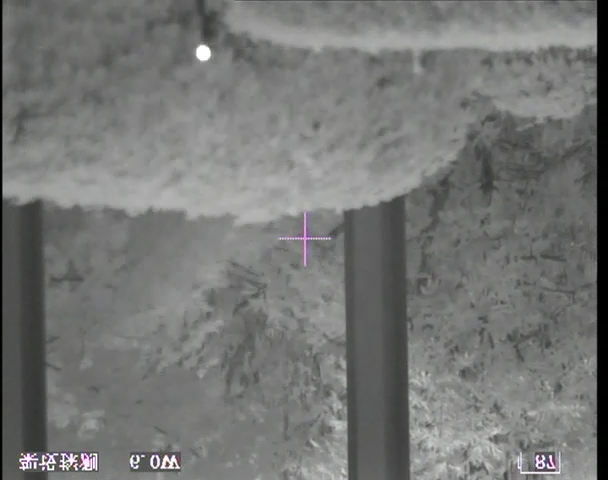my: (194, 44, 212, 63)
